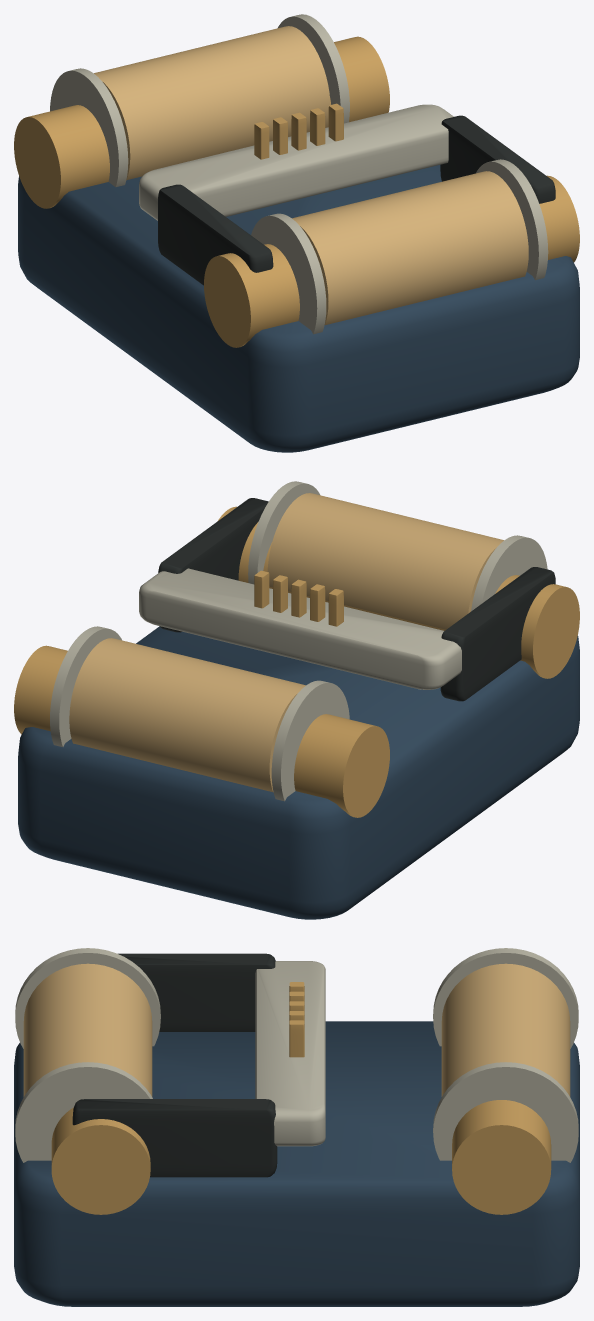
File: Courier.glb
The picture shows the model from 3 angles, top to bottom: view 1: azimuth 30°, elevation 25°; view 2: azimuth 150°, elevation 25°; view 3: azimuth 270°, elevation 25°; orthographic projection. The views are drawn at different scales.
Parts seen in each view (by area): view 1: Recorder casing, Wound paper (×2), Tape axle (×2), Reader throat, Feed reel lip (×4), Ribbon guard (×2), Reader spring (×4); view 2: Recorder casing, Wound paper (×2), Reader throat, Tape axle (×2), Feed reel lip (×4), Ribbon guard (×2), Reader spring (×4); view 3: Recorder casing, Wound paper (×2), Ribbon guard (×2), Feed reel lip (×4), Tape axle (×2), Reader throat, Reader spring.
Boxes of the visible parts, x1,y1,x2,y2 form: Recorder casing: (18, 165, 579, 452); Wound paper (×2): (94, 26, 528, 325); Tape axle (×2): (14, 36, 579, 347); Reader throat: (139, 104, 453, 220); Feed reel lip (×4): (50, 14, 548, 334); Ribbon guard (×2): (158, 115, 555, 285); Reader spring (×4): (254, 103, 343, 159); Recorder casing: (18, 626, 579, 919); Wound paper (×2): (69, 493, 503, 792); Reader throat: (139, 568, 461, 689); Tape axle (×2): (14, 506, 579, 817); Feed reel lip (×4): (50, 481, 547, 801); Ribbon guard (×2): (158, 498, 555, 701); Reader spring (×4): (254, 570, 343, 626); Recorder casing: (14, 1021, 579, 1306); Wound paper (×2): (23, 963, 570, 1096); Ribbon guard (×2): (72, 953, 277, 1177); Feed reel lip (×4): (15, 948, 578, 1162); Tape axle (×2): (51, 1100, 551, 1214); Reader throat: (255, 961, 325, 1146); Reader spring: (289, 1020, 304, 1057).
Size of the model in its own units: 0.92 by 0.5675 by 1.3.
